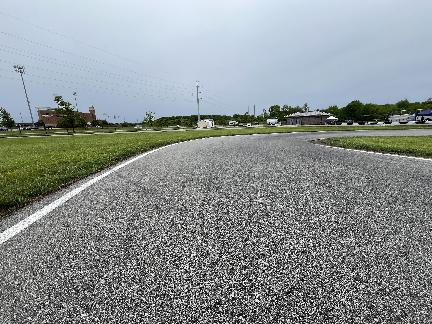Grass: (0, 126, 431, 216), (323, 136, 431, 157)
Lane: (0, 130, 431, 323)
